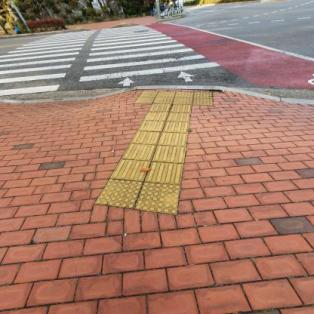Podoctatil: (84, 88, 216, 220)
